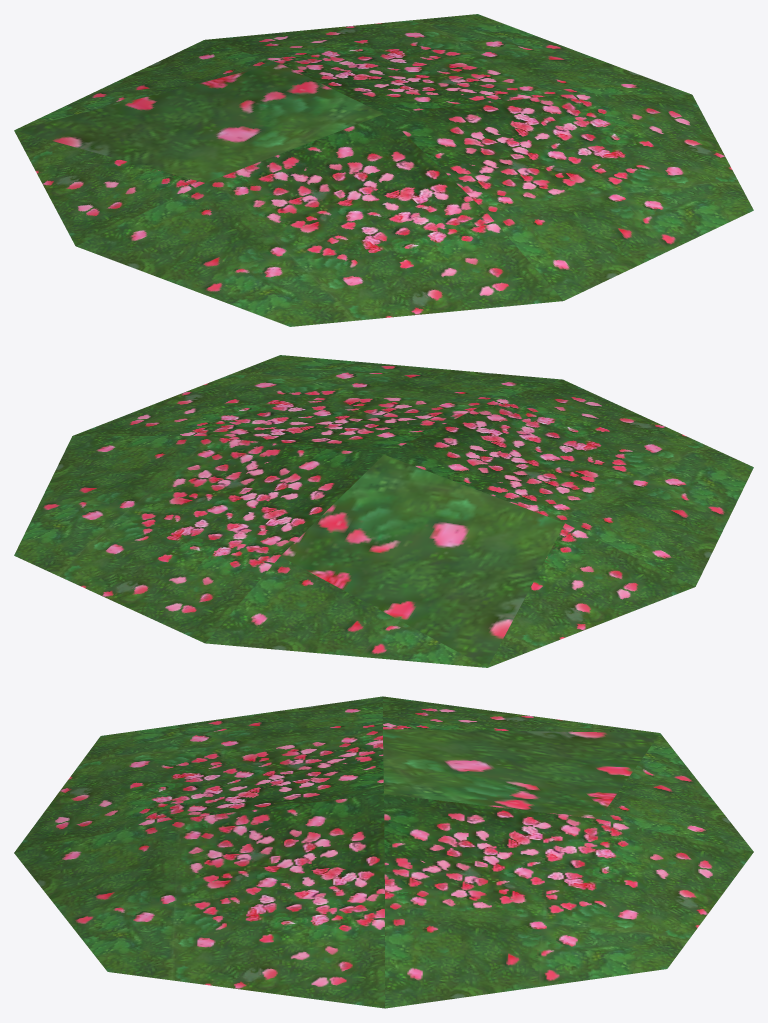
Rendered from cj_luoyang_caodi01_54_06_3593out.fbx.
3 views of the same model, one above another, from view 1: azimuth 30°, elevation 25°; view 2: azimuth 150°, elevation 25°; view 3: azimuth 270°, elevation 25° (orthographic). The views are drawn at different scales.
Visible parts, largest first — view 1: cj_luoyang_caodi01; view 2: cj_luoyang_caodi01; view 3: cj_luoyang_caodi01.
Boxes of the visible parts, bbox=[...] form: cj_luoyang_caodi01: bbox=[14, 14, 753, 326]; cj_luoyang_caodi01: bbox=[14, 355, 753, 667]; cj_luoyang_caodi01: bbox=[14, 696, 753, 1008].
Bounding box in the file's own units: 10.36 × 0.9044 × 10.38.
